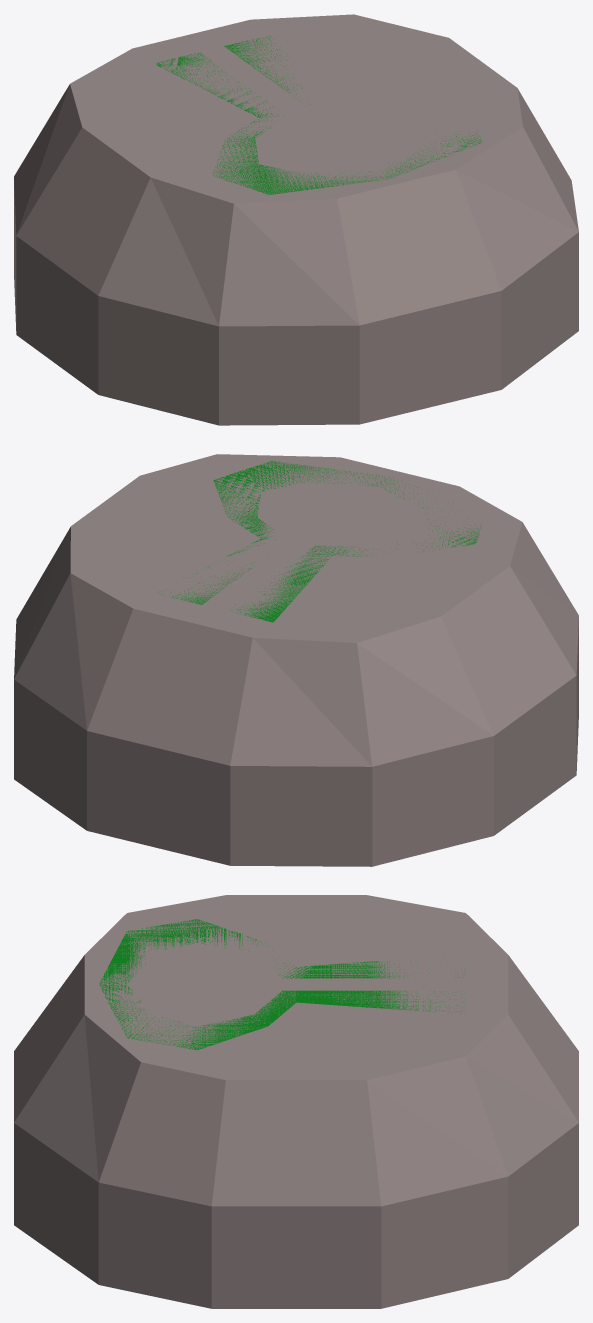
The model's file is inv_nature_rune.obj.
3 views of the same model, one above another, from view 1: azimuth 30°, elevation 25°; view 2: azimuth 150°, elevation 25°; view 3: azimuth 270°, elevation 25° (orthographic). The views are drawn at different scales.
Bounding box in the file's own units: 0.3125 × 0.125 × 0.3125.
